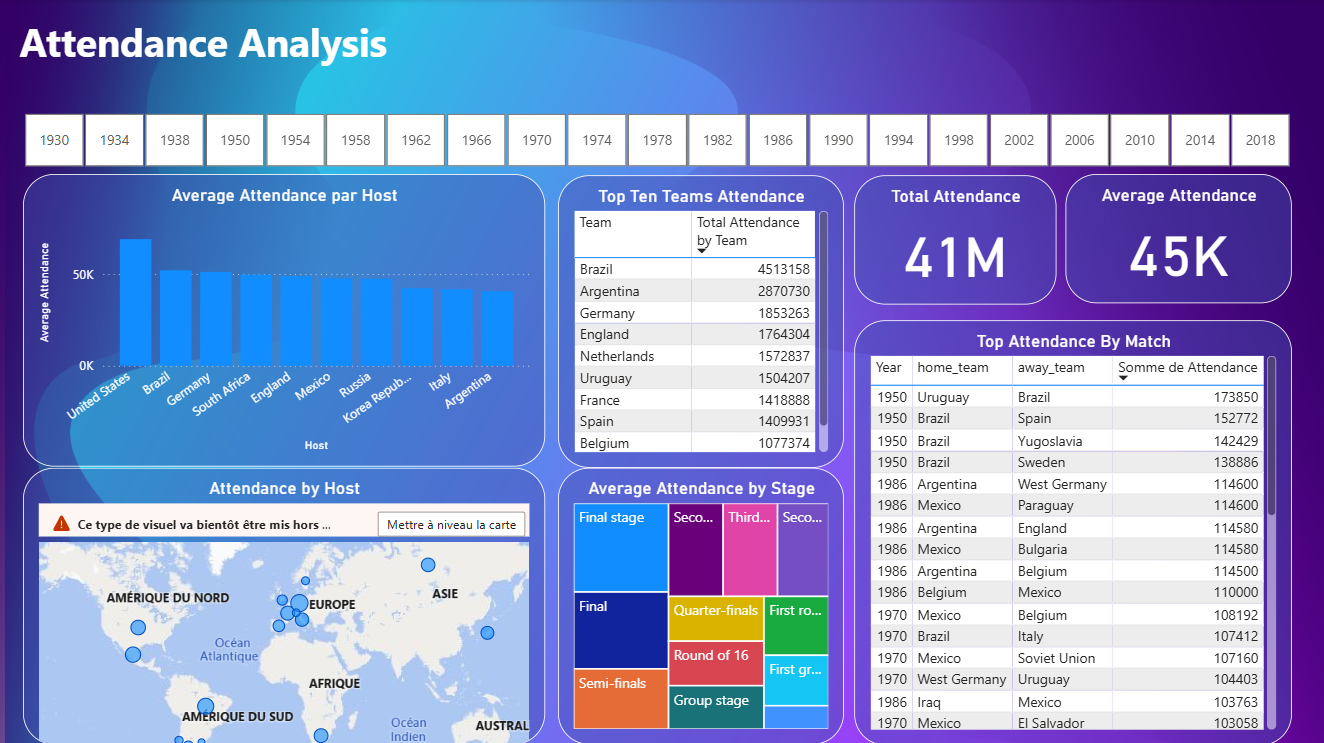

Layout of this report page (visuals, bound fields, positions):
{"tool":"powerbi","page":{"name":"Attendance_Analysis","canvas":[1280,720],"ordinal":3},"visuals":[{"type":"card","title":"Total Attendance","fields":{"Values":["Sum(fact_WC_matches.Attendance)"]},"box":[826.1,170.2,194.9,124.9],"z":0},{"type":"slicer","fields":{"Values":["fact_WC_matches.Year"]},"box":[0,104.3,1270.7,64.5],"z":1000},{"type":"card","title":"Average Attendance","fields":{"Values":["fact_WC_matches.Average Attendance"]},"box":[1030.5,168.8,218.2,124.9],"z":2000},{"type":"tableEx","title":"Top Ten Teams Attendance","fields":{"Values":["dim_2022_world_cup_groups.Team","fact_WC_matches.Total Attendance by Team"]},"box":[540.7,170.2,275.8,282.7],"z":3000},{"type":"map","title":"Attendance by Host","fields":{"Category":["fact_WC_matches.Host"],"Size":["Sum(fact_WC_matches.Attendance)"]},"box":[24.7,452.8,503.6,267.6],"z":4000},{"type":"columnChart","fields":{"Y":["fact_WC_matches.Average Attendance"],"Category":["fact_WC_matches.Host"]},"box":[24.7,168.8,503.6,282.7],"z":5000},{"type":"treemap","title":"Average Attendance by Stage","fields":{"Group":["fact_WC_matches.Round"],"Values":["fact_WC_matches.Average Attendance by Stage"]},"box":[541,453,276,267],"z":6000},{"type":"tableEx","title":"Top Attendance By Match","fields":{"Values":["fact_WC_matches.Year","fact_WC_matches.home_team","fact_WC_matches.away_team","Sum(fact_WC_matches.Attendance)"]},"box":[826.1,310.1,422.6,410.3],"z":7000},{"type":"textbox","box":[15.1,11,494,65.9],"z":8000}]}

Visuals, with their boxes in screenshot pixels (x1, y1, x2, y2), scaled from the page's 1280x720 canvas onto the 1324x743 screenshot:
"Total Attendance" card: Rect(854, 176, 1056, 305)
slicer - fact_WC_matches.Year: Rect(0, 108, 1314, 174)
"Average Attendance" card: Rect(1066, 174, 1292, 303)
"Top Ten Teams Attendance" tableEx: Rect(559, 176, 845, 467)
"Attendance by Host" map: Rect(26, 467, 546, 742)
columnChart - fact_WC_matches.Average Attendance x fact_WC_matches.Host: Rect(26, 174, 546, 466)
"Average Attendance by Stage" treemap: Rect(560, 467, 845, 742)
"Top Attendance By Match" tableEx: Rect(854, 320, 1292, 742)
textbox: Rect(16, 11, 527, 79)
